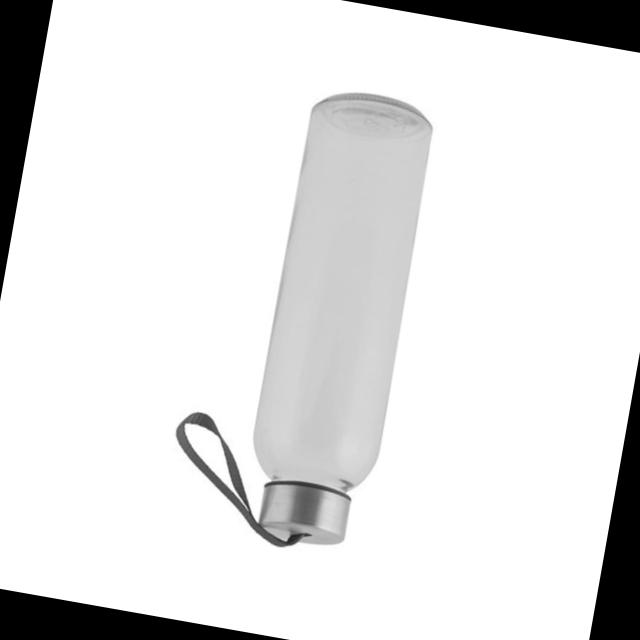glass: (190, 26, 469, 590)
